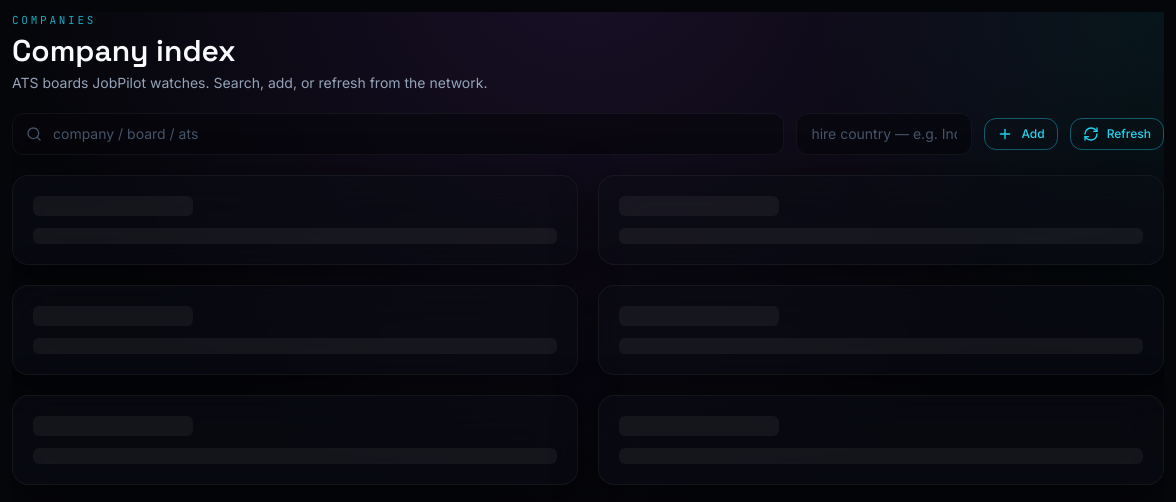
it: CompaniesPage › refreshes companies from the network
Click the button "Refresh": point(1117, 134) [1070, 118, 1164, 150]
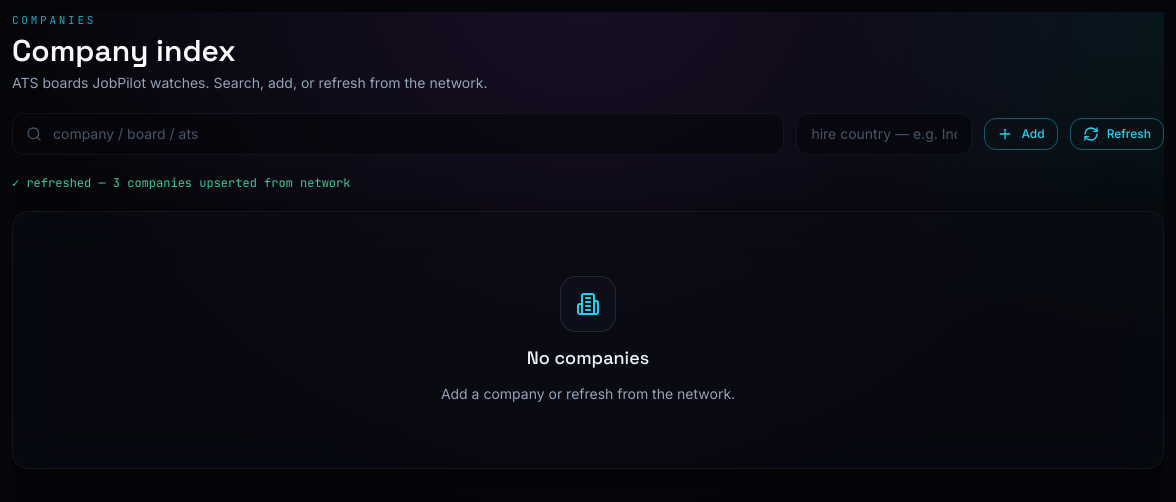
Check: the text "✓ refreshed — 3 companies upserted from network" is shown, box [12, 174, 350, 190]
